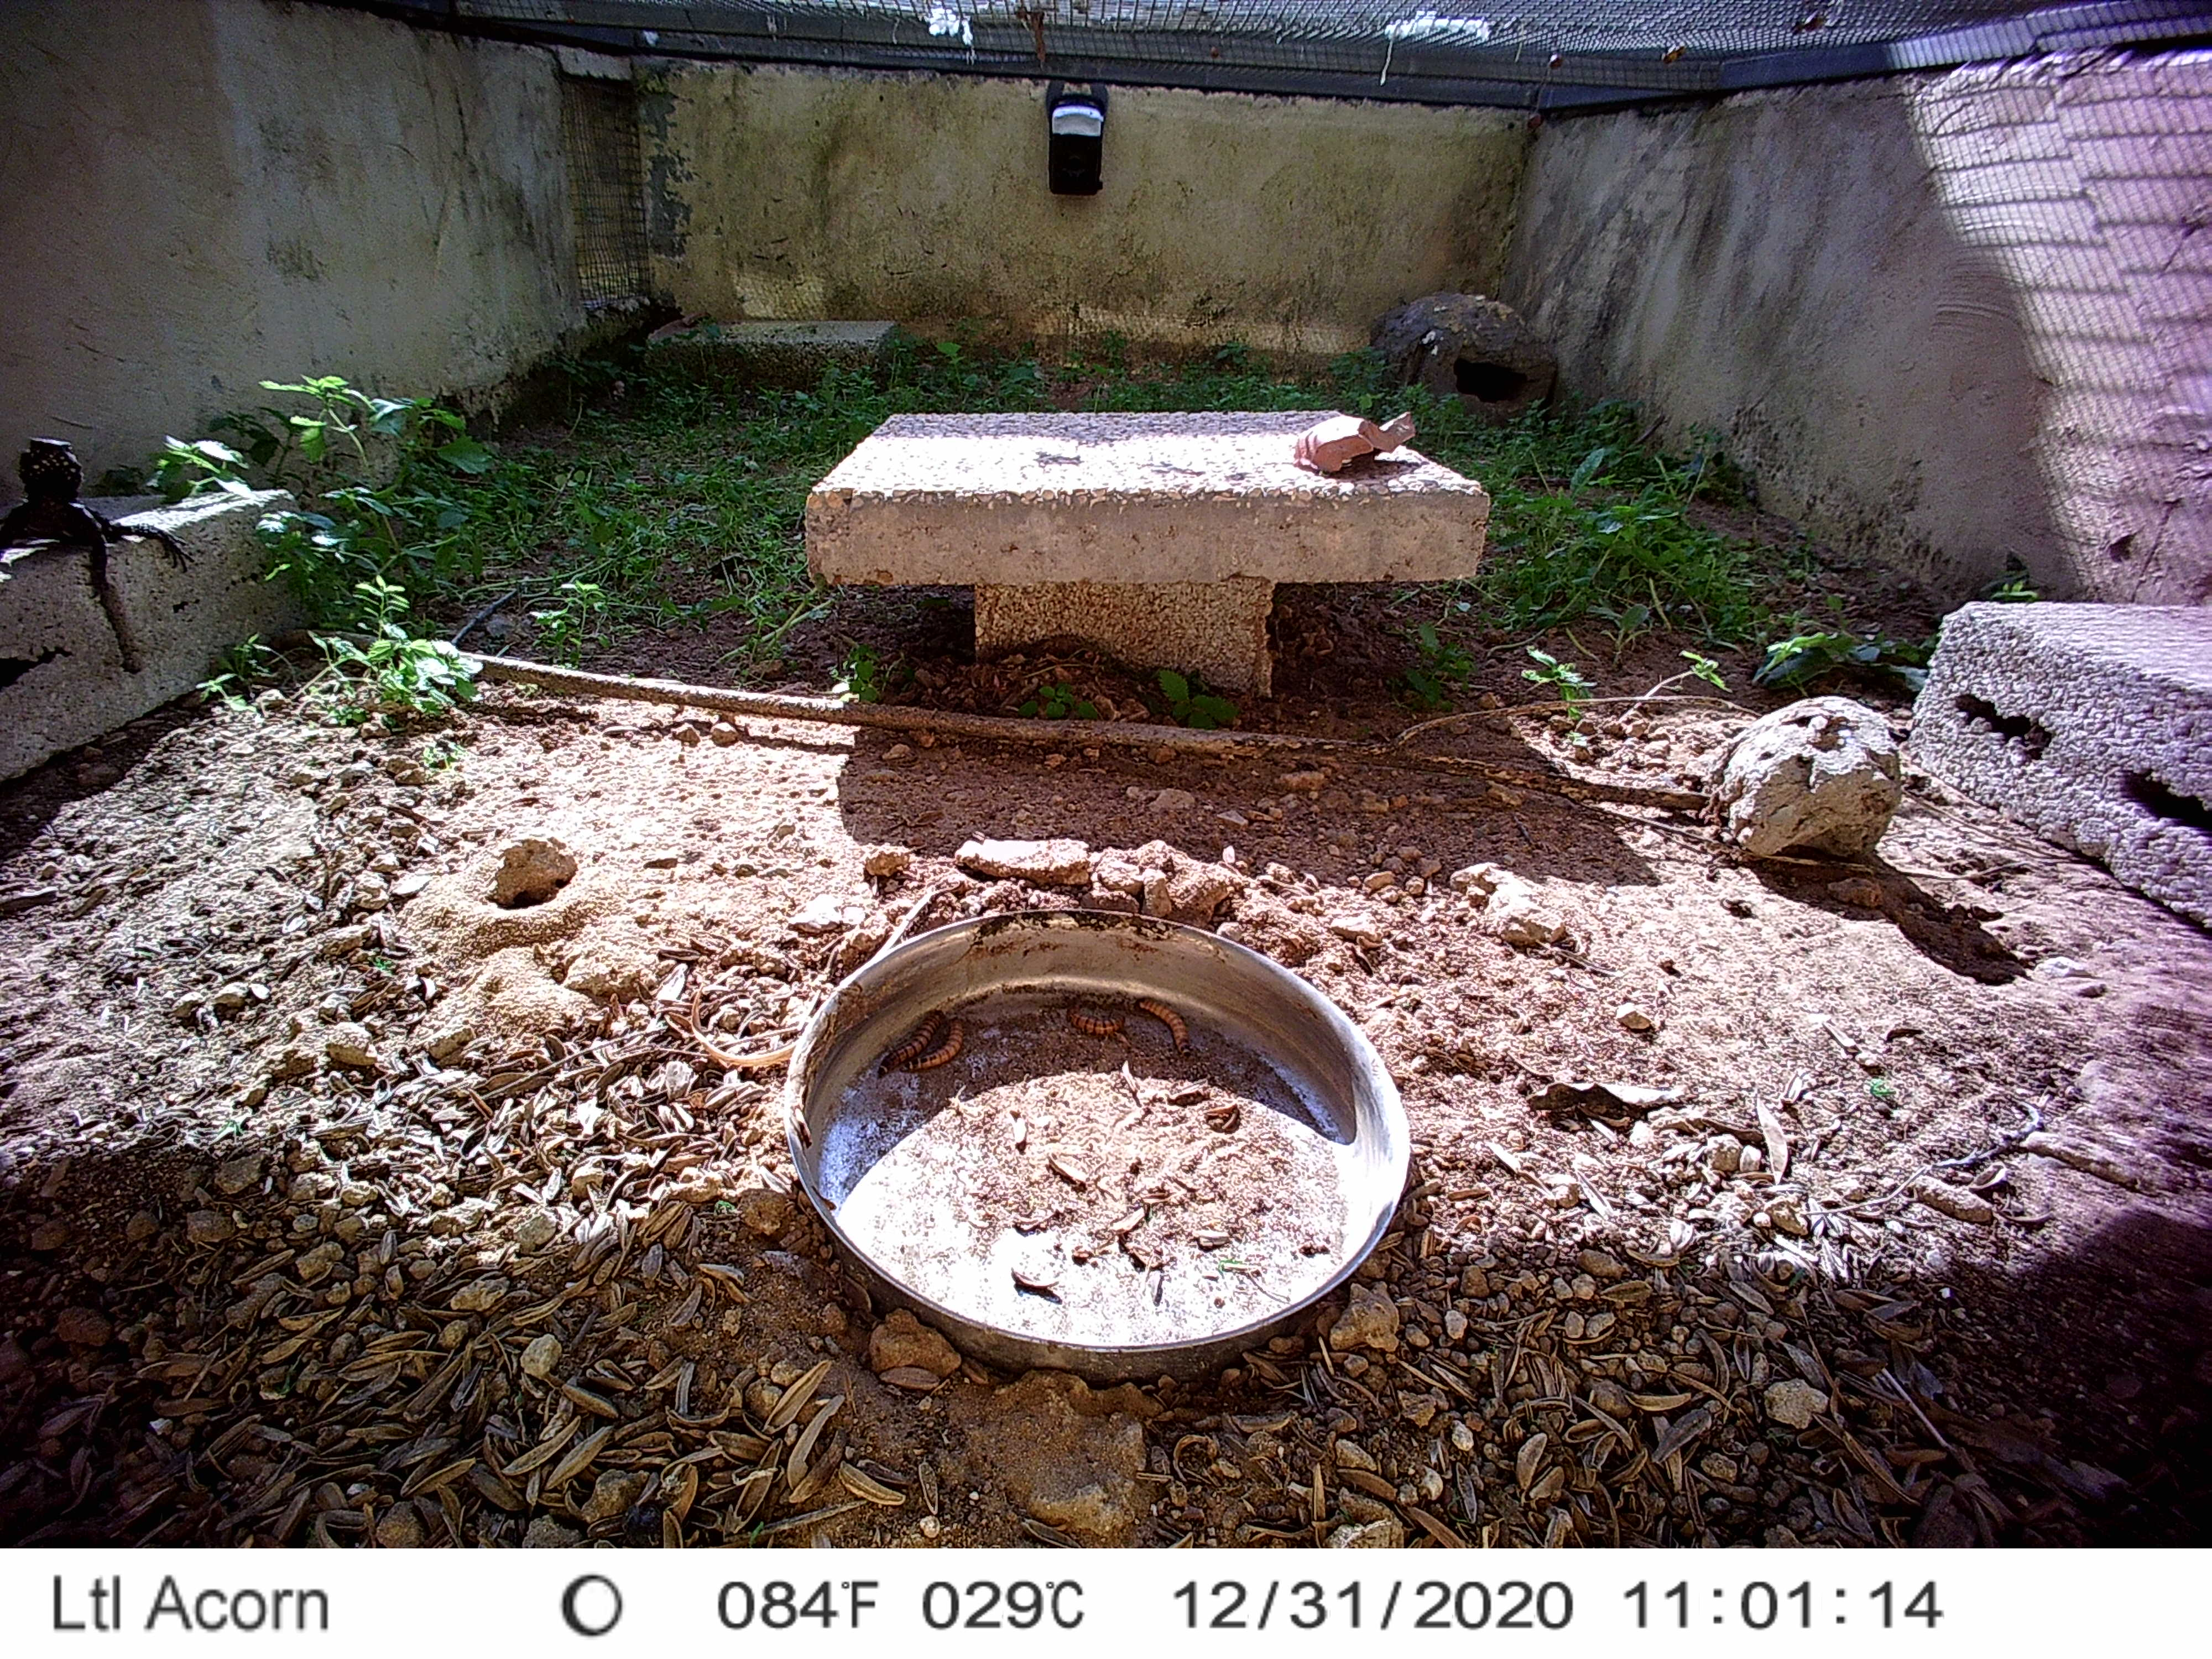lizard: (2, 432, 197, 592)
